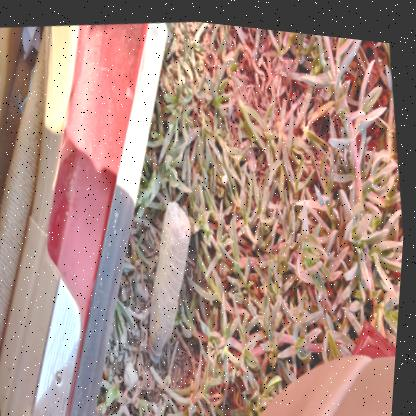Paper: (21, 25, 39, 59)
Plastic: (151, 195, 192, 359), (11, 65, 33, 114)
Waste: (151, 338, 164, 360)
